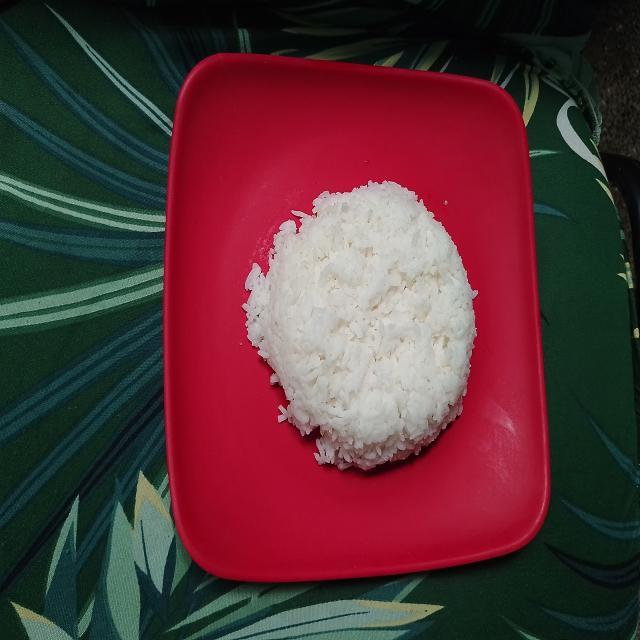Chicken -Chicken Inasal-: (251, 174, 483, 470)
